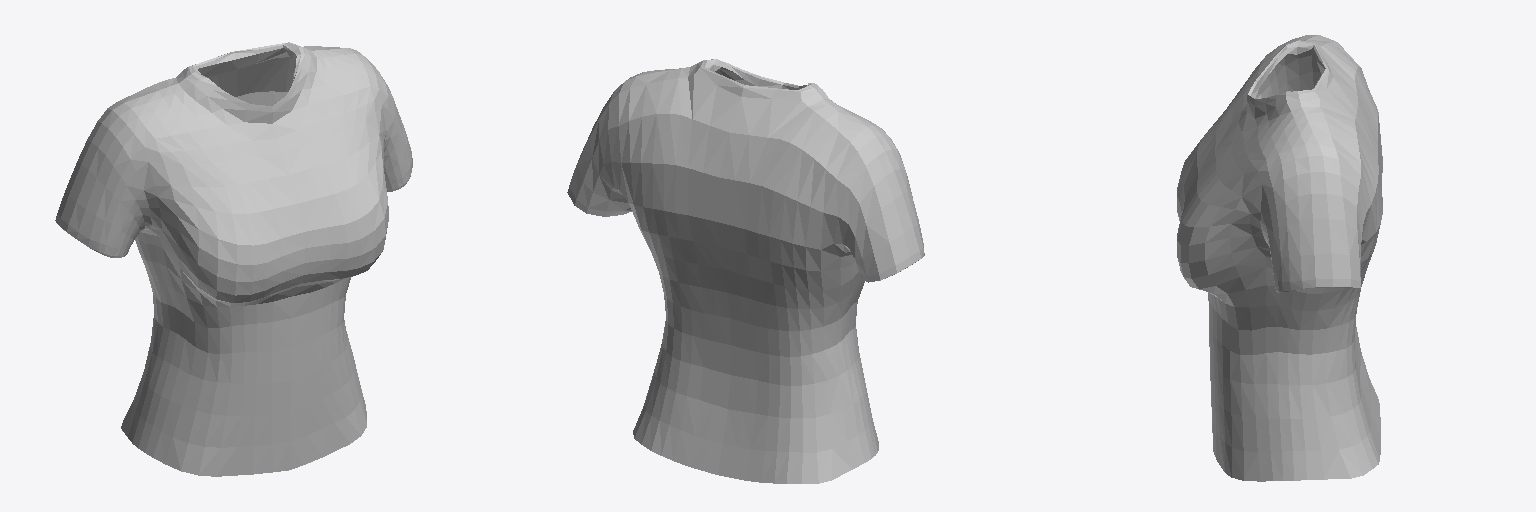
Rendered from red-women-shirt.obj.
3 renders of one model, left to right at view 1: azimuth 30°, elevation 25°; view 2: azimuth 150°, elevation 25°; view 3: azimuth 270°, elevation 25°, orthographic.
Bounding box in the file's own units: 19.95 × 21.14 × 10.39.